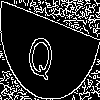Q: (25, 25, 57, 83)
